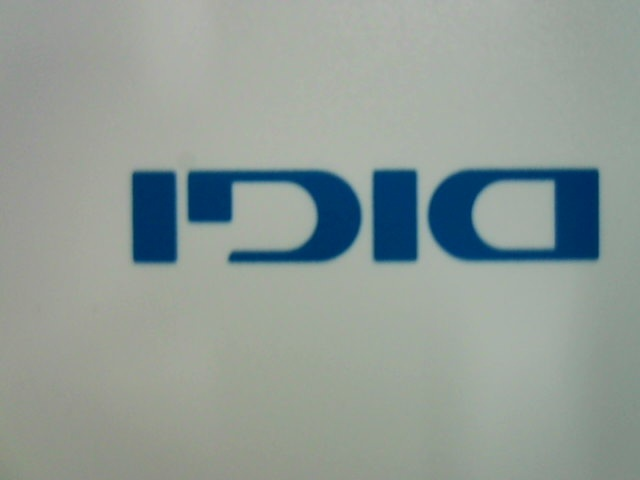BL_DIGI: (122, 151, 606, 272)
